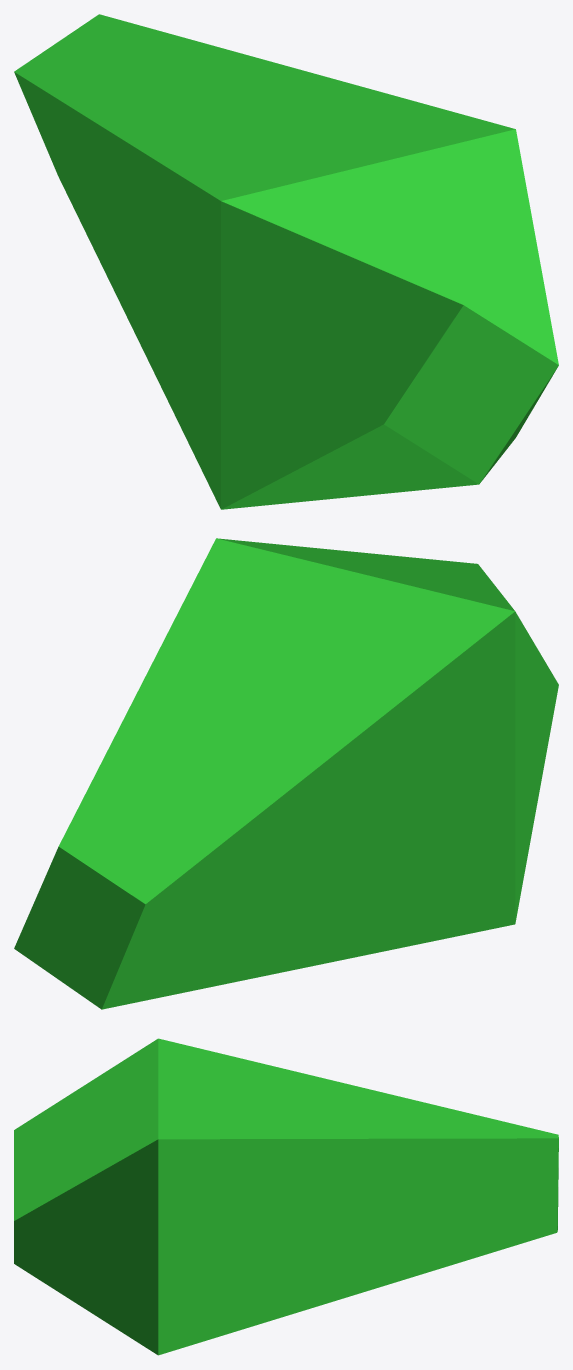
The model's file is Handle.obj.
3 renders of one model, top to bottom at view 1: azimuth 30°, elevation 25°; view 2: azimuth 150°, elevation 25°; view 3: azimuth 270°, elevation 25°, orthographic. The views are drawn at different scales.
Parts seen in each view (by area): view 1: Cube; view 2: Cube; view 3: Cube.
Part boxes in pixels (box(x1,y1,x2,y2)): Cube: box(14, 14, 558, 509); Cube: box(14, 538, 558, 1009); Cube: box(14, 1038, 558, 1355).
Size of the model in its own units: 2 by 2 by 4.57.
